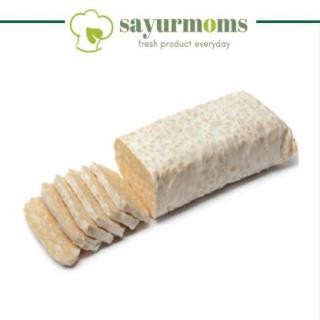Tempe: (22, 86, 299, 269)
